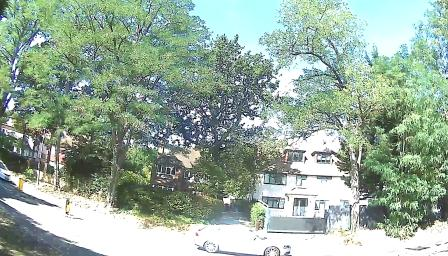Cars: (191, 214, 297, 256), (1, 161, 14, 183)
